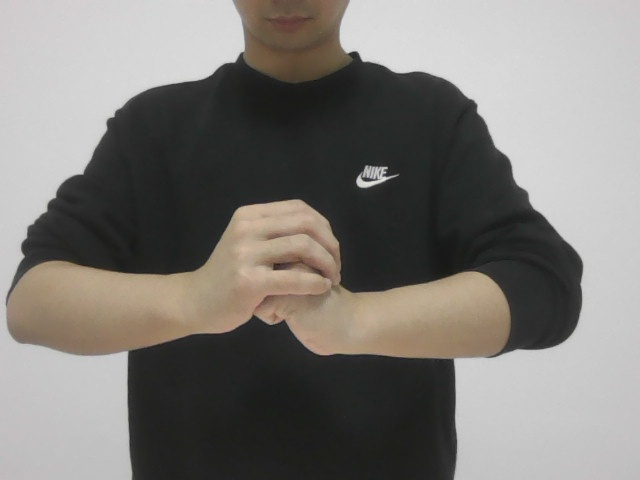wish: (193, 193, 365, 361)
